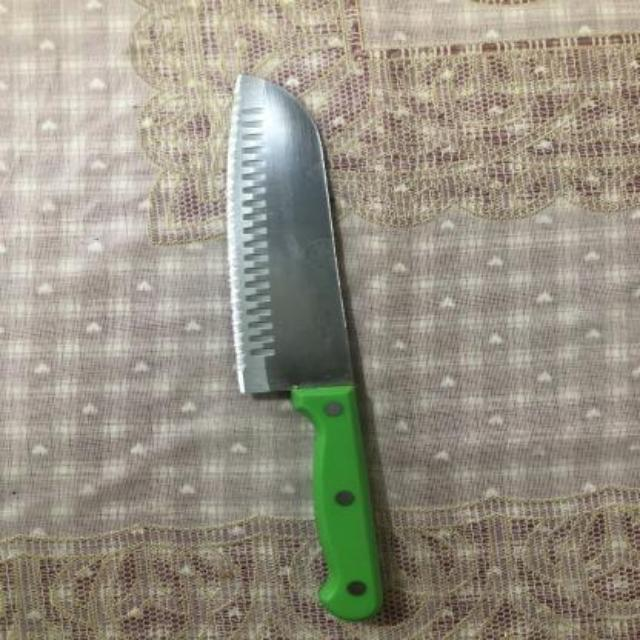Knife: (226, 76, 384, 624)
